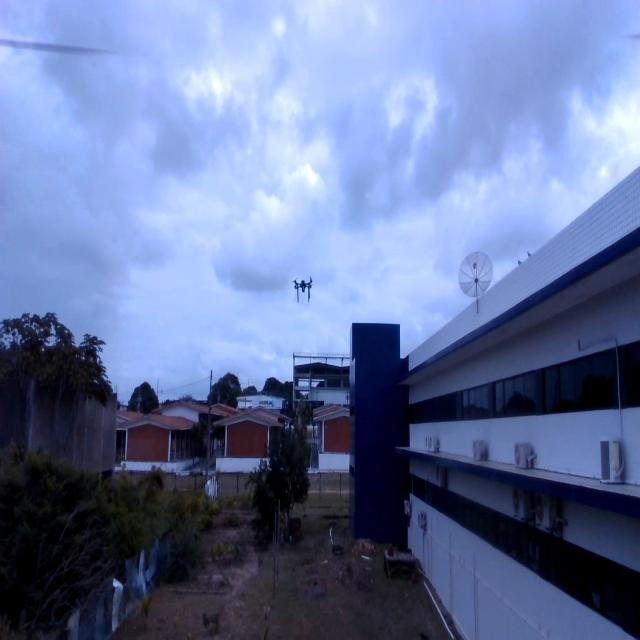-uav-: (290, 273, 315, 311)
